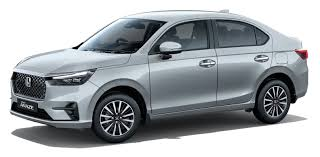car: (9, 5, 315, 143)
